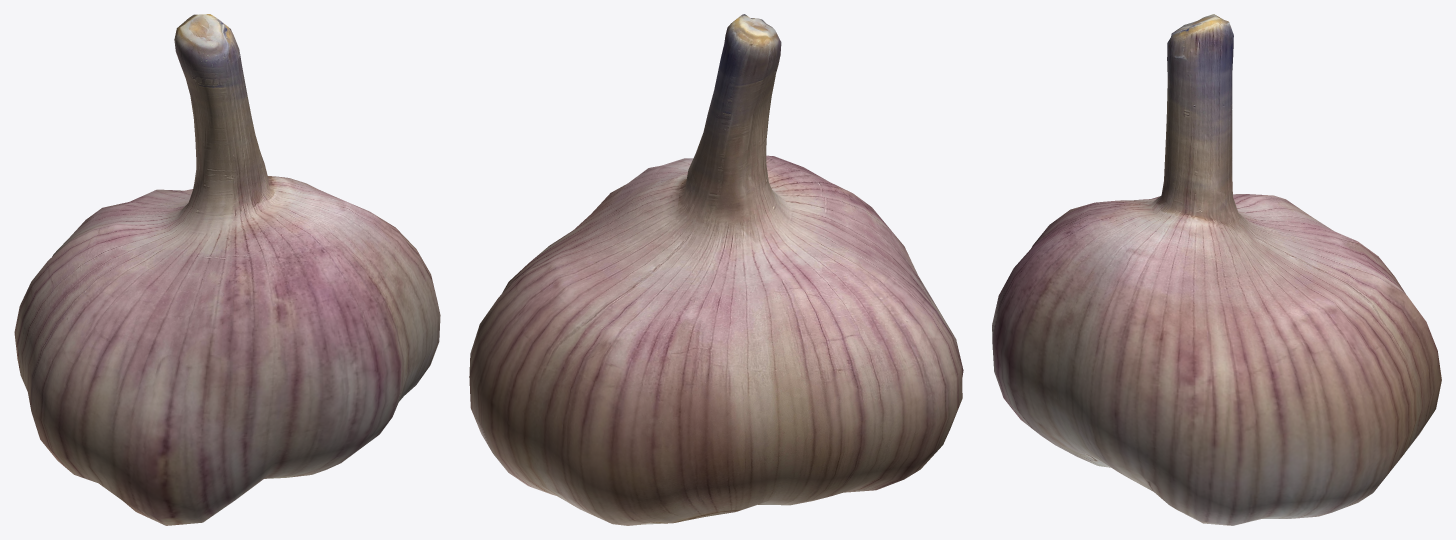
File: garlic_bulb.glb
The picture shows the model from 3 angles, left to right: view 1: azimuth 30°, elevation 25°; view 2: azimuth 150°, elevation 25°; view 3: azimuth 270°, elevation 25°; orthographic projection. The views are drawn at different scales.
Parts seen in each view (by area): view 1: Garlic_Garlic_0; view 2: Garlic_Garlic_0; view 3: Garlic_Garlic_0.
Boxes of the visible parts, <box> form: Garlic_Garlic_0: <box>14,14,440,525</box>; Garlic_Garlic_0: <box>469,14,963,525</box>; Garlic_Garlic_0: <box>992,14,1441,525</box>.
Size of the model in its own units: 5.94 by 6.28 by 5.76.
Materials: 1 (1 with a texture image).
